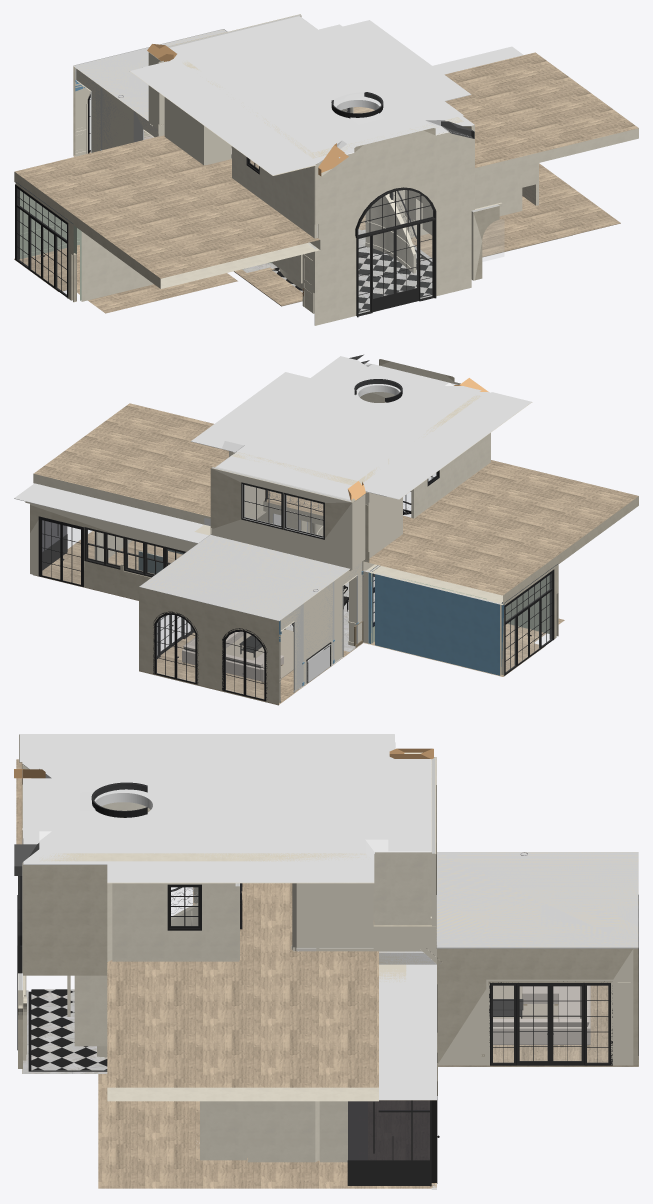
Rendered from family-room-fa2a7ed60cbe.glb.
3 views of the same model, one above another, from view 1: azimuth 30°, elevation 25°; view 2: azimuth 150°, elevation 25°; view 3: azimuth 270°, elevation 25° (orthographic). The views are drawn at different scales.
Visible parts, largest first — view 1: family-room-look-2575515a05775d9e, family-room-look-e8793759323e04f0, family-room-look-9d91b47435c6fb33, family-room-look-34525a54e63b733b, family-room-look-3b0077416469e01b, family-room-look-698abdfdc6fb970d, family-room-look-d5a4a1b5d3594c04, family-room-look-08d72923bcfd3529, family-room-look-5f56640b372ec5ce, family-room-look-746250f96522f643, family-room-4a969f5cc1ae3dfe, family-room-look-c4ac463b6a960119 (+21 smaller); view 2: family-room-look-2575515a05775d9e, family-room-look-e8793759323e04f0, family-room-look-9d91b47435c6fb33, family-room-4a969f5cc1ae3dfe, family-room-look-b19b106fc304963c, family-room-look-245f595ae2832e16, family-room-969b861f9850351e, family-room-look-bfb9fa537cd11d1d, family-room-look-9a0e9ee9b2a451d7, family-room-9d80b152e3f2ea10, family-room-look-08d72923bcfd3529, family-room-look-5f56640b372ec5ce (+22 smaller); view 3: family-room-look-2575515a05775d9e, family-room-look-e8793759323e04f0, family-room-look-9d91b47435c6fb33, family-room-4a969f5cc1ae3dfe, family-room-look-3b0077416469e01b, family-room-e706aa16b4547c37, family-room-3d5fbc3a2a5f9c05, family-room-look-62353aa10fc57f23, family-room-50d54560d247b537, family-room-look-c51ecd664a3b22a3, family-room-look-9a0e9ee9b2a451d7, family-room-look-5f56640b372ec5ce (+24 smaller).
Part boxes in pixels (box(x1,y1,x2,y2)): family-room-look-2575515a05775d9e: box(14, 52, 638, 288); family-room-look-e8793759323e04f0: box(180, 23, 463, 158); family-room-look-9d91b47435c6fb33: box(130, 16, 474, 175); family-room-look-34525a54e63b733b: box(314, 126, 471, 244); family-room-look-3b0077416469e01b: box(14, 163, 620, 306); family-room-look-698abdfdc6fb970d: box(356, 218, 436, 317); family-room-look-d5a4a1b5d3594c04: box(314, 208, 471, 325); family-room-look-08d72923bcfd3529: box(15, 184, 68, 298); family-room-look-5f56640b372ec5ce: box(254, 81, 404, 139); family-room-look-746250f96522f643: box(232, 146, 317, 238); family-room-4a969f5cc1ae3dfe: box(73, 29, 226, 120); family-room-look-c4ac463b6a960119: box(272, 247, 432, 311); family-room-look-2575515a05775d9e: box(33, 403, 638, 604); family-room-look-e8793759323e04f0: box(222, 356, 481, 485); family-room-look-9d91b47435c6fb33: box(191, 362, 532, 500); family-room-4a969f5cc1ae3dfe: box(139, 534, 349, 621); family-room-look-b19b106fc304963c: box(375, 573, 501, 675); family-room-look-245f595ae2832e16: box(210, 467, 352, 568); family-room-969b861f9850351e: box(139, 587, 280, 704); family-room-look-bfb9fa537cd11d1d: box(30, 502, 197, 600); family-room-look-9a0e9ee9b2a451d7: box(14, 483, 208, 543); family-room-9d80b152e3f2ea10: box(280, 562, 362, 690); family-room-look-08d72923bcfd3529: box(504, 569, 554, 675); family-room-look-5f56640b372ec5ce: box(324, 377, 464, 430); family-room-look-2575515a05775d9e: box(16, 759, 378, 1101); family-room-look-e8793759323e04f0: box(39, 756, 388, 861); family-room-look-9d91b47435c6fb33: box(19, 734, 431, 883); family-room-4a969f5cc1ae3dfe: box(436, 852, 638, 948); family-room-look-3b0077416469e01b: box(98, 920, 436, 1188); family-room-e706aa16b4547c37: box(437, 948, 633, 1065); family-room-3d5fbc3a2a5f9c05: box(489, 981, 612, 1065); family-room-look-62353aa10fc57f23: box(23, 865, 112, 975); family-room-50d54560d247b537: box(436, 852, 638, 948); family-room-look-c51ecd664a3b22a3: box(112, 883, 239, 961); family-room-look-9a0e9ee9b2a451d7: box(379, 964, 436, 1100); family-room-look-5f56640b372ec5ce: box(83, 756, 196, 825).
Size of the model in its own units: 21.07 by 7.01 by 16.88.
Materials: 61 (12 with a texture image).
